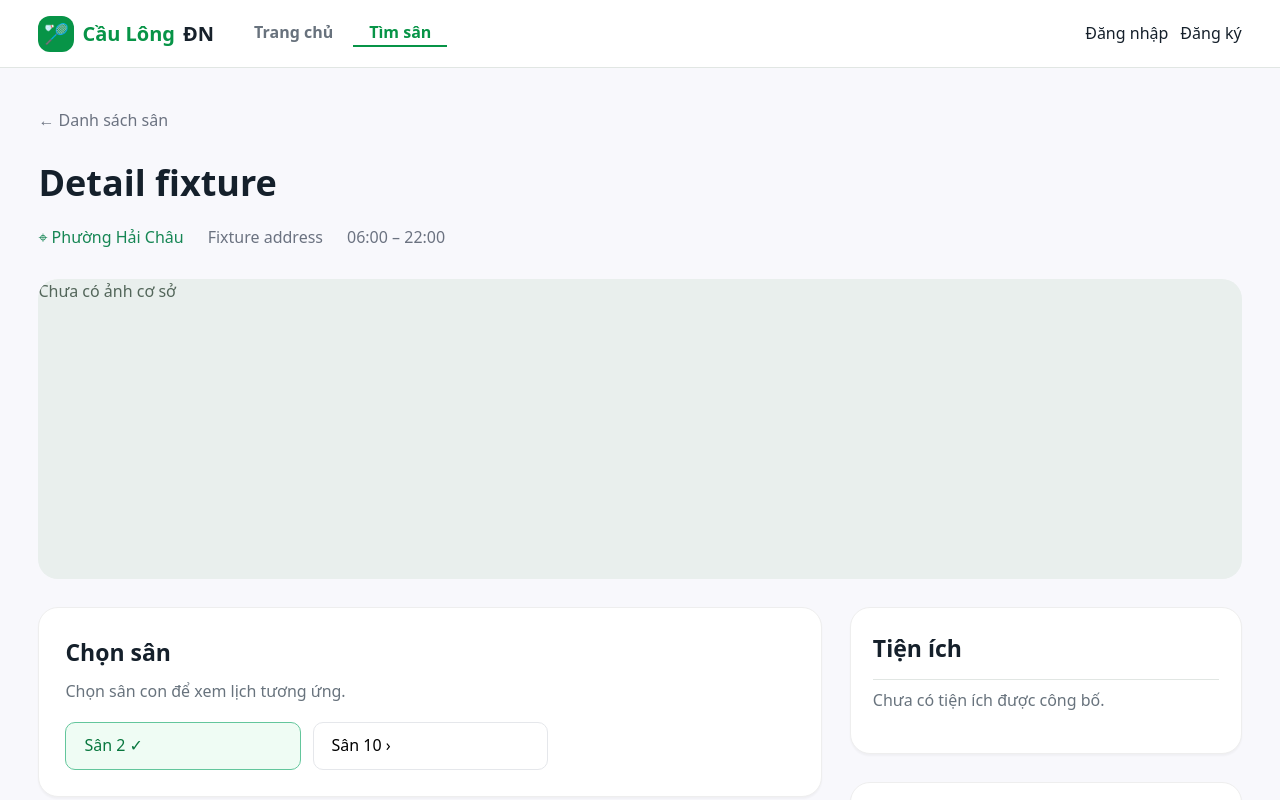
Test case: late old Court response cannot replace new Court state
Click the button "Sân 10 ›" at coordinates (430, 746), box [312,722,548,770]
(page scrolled)
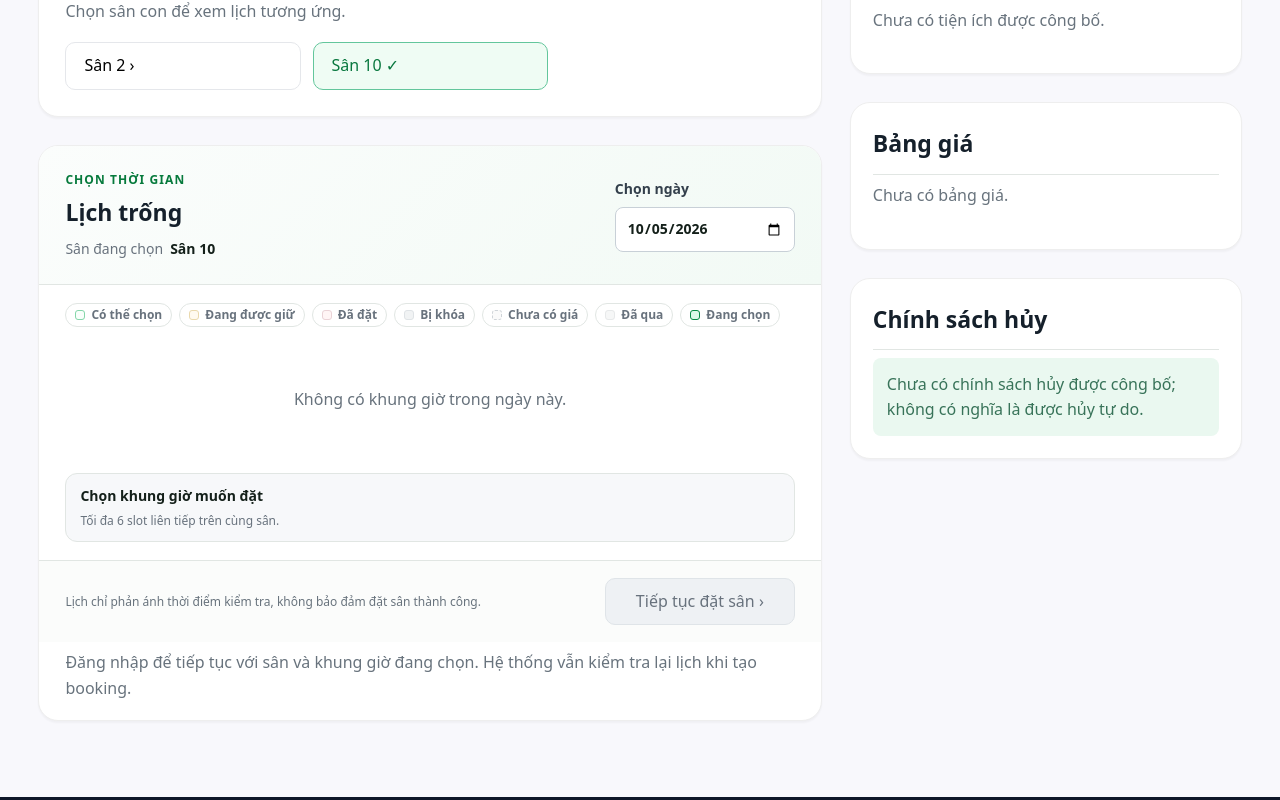
Expected: the text "Không có khung giờ trong ngày này." is shown, [294,388,566,410]
